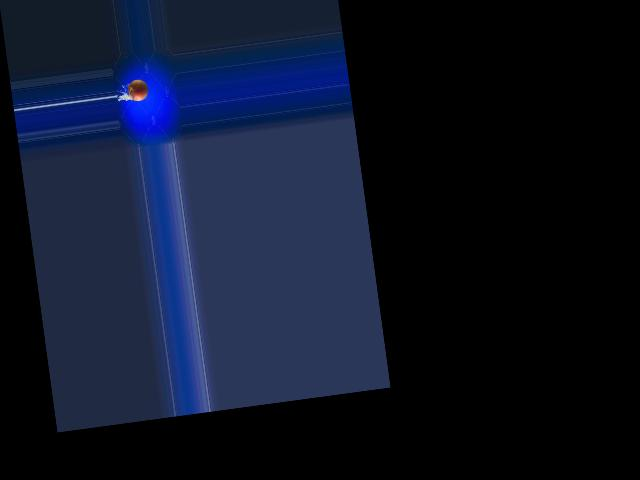tomato: (127, 77, 149, 101)
